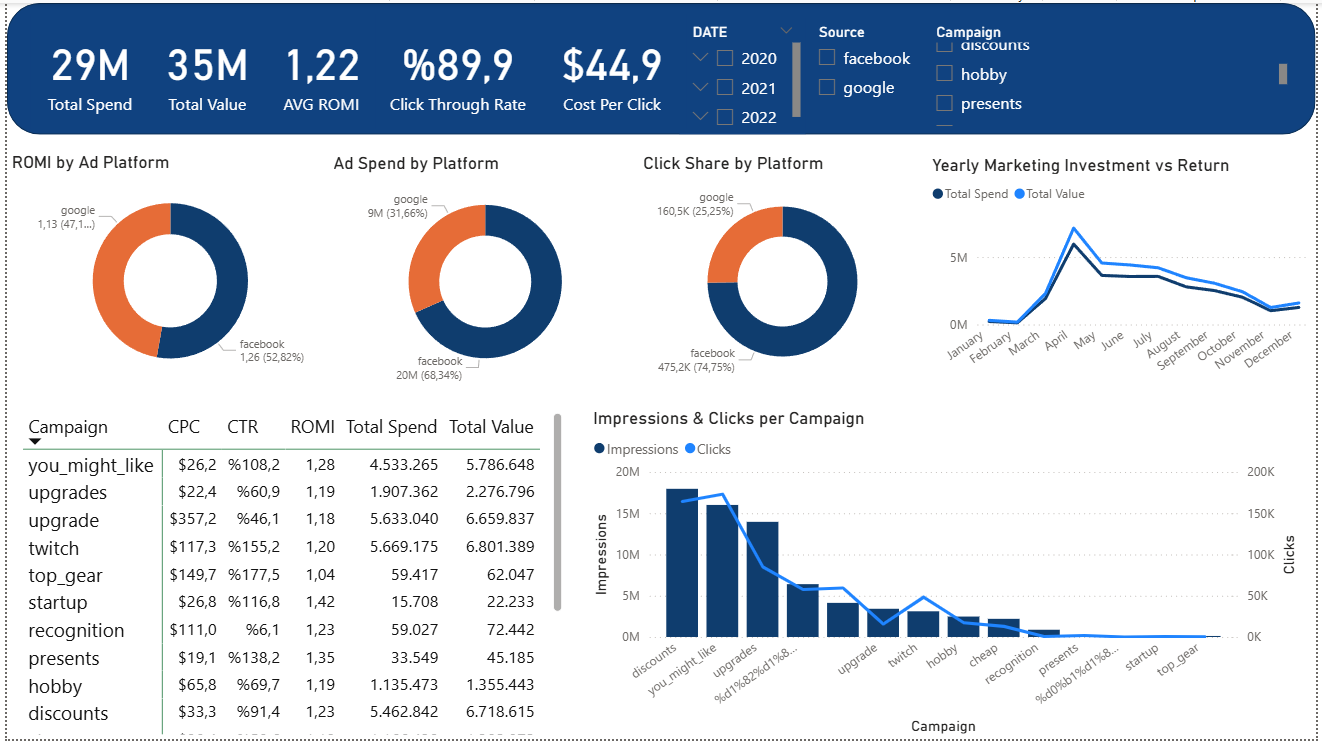

This screenshot's page, from the dashboard's own definition file:
{"tool":"powerbi","page":{"name":"Page 2","canvas":[1280,720],"ordinal":0},"visuals":[{"type":"shape","box":[0,0,1280,128.8],"z":0},{"type":"slicer","fields":{"Values":["marketting_campaign_analysis.ad_date.Variation.Date Hierarchy.Year","marketting_campaign_analysis.ad_date.Variation.Date Hierarchy.Quarter","marketting_campaign_analysis.ad_date.Variation.Date Hierarchy.Month","marketting_campaign_analysis.ad_date.Variation.Date Hierarchy.Day"]},"box":[657.8,14.2,123.5,114],"z":1000},{"type":"slicer","fields":{"Values":["marketting_campaign_analysis.utm_source"]},"box":[781.3,14.7,114.7,110.7],"z":2000},{"type":"slicer","fields":{"Values":["marketting_campaign_analysis.utm_campaign"]},"box":[896,14.7,361.3,110.7],"z":3000},{"type":"card","fields":{"Values":["Sum(marketting_campaign_analysis.spend)"]},"box":[23.7,10.9,116.4,111.6],"z":4000},{"type":"card","fields":{"Values":["marketting_campaign_analysis.AVG_ROMI"]},"box":[251.7,10.9,111.6,111.6],"z":5000},{"type":"card","fields":{"Values":["marketting_campaign_analysis.CTR_new"]},"box":[361,10.9,161.5,111.6],"z":6000},{"type":"card","fields":{"Values":["marketting_campaign_analysis.CPC_new"]},"box":[520.1,10.9,144.9,111.6],"z":7000},{"type":"donutChart","title":"Ad Spend by Platform","fields":{"Category":["marketting_campaign_analysis.utm_source"],"Y":["Sum(marketting_campaign_analysis.spend)"]},"box":[314.6,146.3,307.5,232.7],"z":8000},{"type":"donutChart","title":"Click Share by Platform","fields":{"Category":["marketting_campaign_analysis.utm_source"],"Y":["Sum(marketting_campaign_analysis.clicks)"]},"box":[617.4,146.3,282.6,232.7],"z":9000},{"type":"donutChart","title":"ROMI by Ad Platform","fields":{"Y":["marketting_campaign_analysis.ROMI"],"Category":["marketting_campaign_analysis.utm_source"]},"box":[0,145.8,320,233.8],"z":10000},{"type":"pivotTable","fields":{"Rows":["marketting_campaign_analysis.utm_campaign"],"Values":["marketting_campaign_analysis.CPC_new","marketting_campaign_analysis.CTR_new","marketting_campaign_analysis.ROMI","Sum(marketting_campaign_analysis.spend)","Sum(marketting_campaign_analysis.value)"]},"box":[11.4,395.7,537.1,324.3],"z":11000},{"type":"lineClusteredColumnComboChart","title":"Impressions & Clicks per Campaign","fields":{"Category":["marketting_campaign_analysis.utm_campaign"],"Y":["Sum(marketting_campaign_analysis.impressions)"],"Y2":["Sum(marketting_campaign_analysis.clicks)"]},"box":[568.8,396.2,698.8,323.8],"z":12000},{"type":"lineChart","title":"Yearly Marketing Investment vs Return","fields":{"Category":["marketting_campaign_analysis.ad_date.Variation.Date Hierarchy.Month"],"Y":["Sum(marketting_campaign_analysis.spend)","Sum(marketting_campaign_analysis.value)"]},"box":[900,147.5,380,228.8],"z":13000},{"type":"card","fields":{"Values":["Sum(marketting_campaign_analysis.value)"]},"box":[137.7,10.9,116.4,111.6],"z":14000}]}

Visuals, with their boxes in screenshot pixels (x1, y1, x2, y2), scaled from the page's 1280x720 canvas onto the 1322x741 screenshot:
shape: x1=0 y1=0 x2=1321 y2=133
slicer - marketting_campaign_analysis.ad_date.Variation.Date Hierarchy.Year x marketting_campaign_analysis.ad_date.Variation.Date Hierarchy.Quarter: x1=679 y1=15 x2=807 y2=132
slicer - marketting_campaign_analysis.utm_source: x1=807 y1=15 x2=925 y2=129
slicer - marketting_campaign_analysis.utm_campaign: x1=925 y1=15 x2=1299 y2=129
card - Sum(marketting_campaign_analysis.spend): x1=24 y1=11 x2=145 y2=126
card - marketting_campaign_analysis.AVG_ROMI: x1=260 y1=11 x2=375 y2=126
card - marketting_campaign_analysis.CTR_new: x1=373 y1=11 x2=540 y2=126
card - marketting_campaign_analysis.CPC_new: x1=537 y1=11 x2=687 y2=126
"Ad Spend by Platform" donutChart: x1=325 y1=151 x2=643 y2=390
"Click Share by Platform" donutChart: x1=638 y1=151 x2=930 y2=390
"ROMI by Ad Platform" donutChart: x1=0 y1=150 x2=330 y2=391
pivotTable - marketting_campaign_analysis.utm_campaign x marketting_campaign_analysis.CPC_new: x1=12 y1=407 x2=566 y2=740
"Impressions & Clicks per Campaign" lineClusteredColumnComboChart: x1=587 y1=408 x2=1309 y2=740
"Yearly Marketing Investment vs Return" lineChart: x1=930 y1=152 x2=1321 y2=387
card - Sum(marketting_campaign_analysis.value): x1=142 y1=11 x2=262 y2=126
